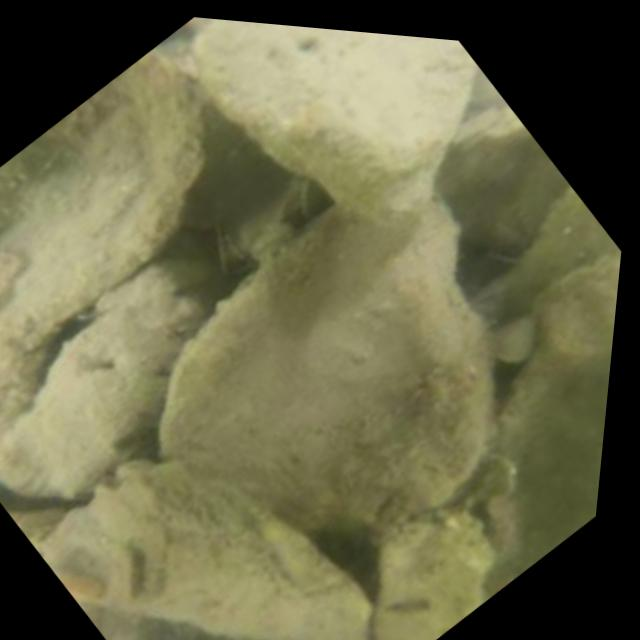Oyster-Indeterminate: (159, 186, 501, 540), (0, 48, 206, 354), (48, 459, 377, 640), (188, 20, 473, 227)
